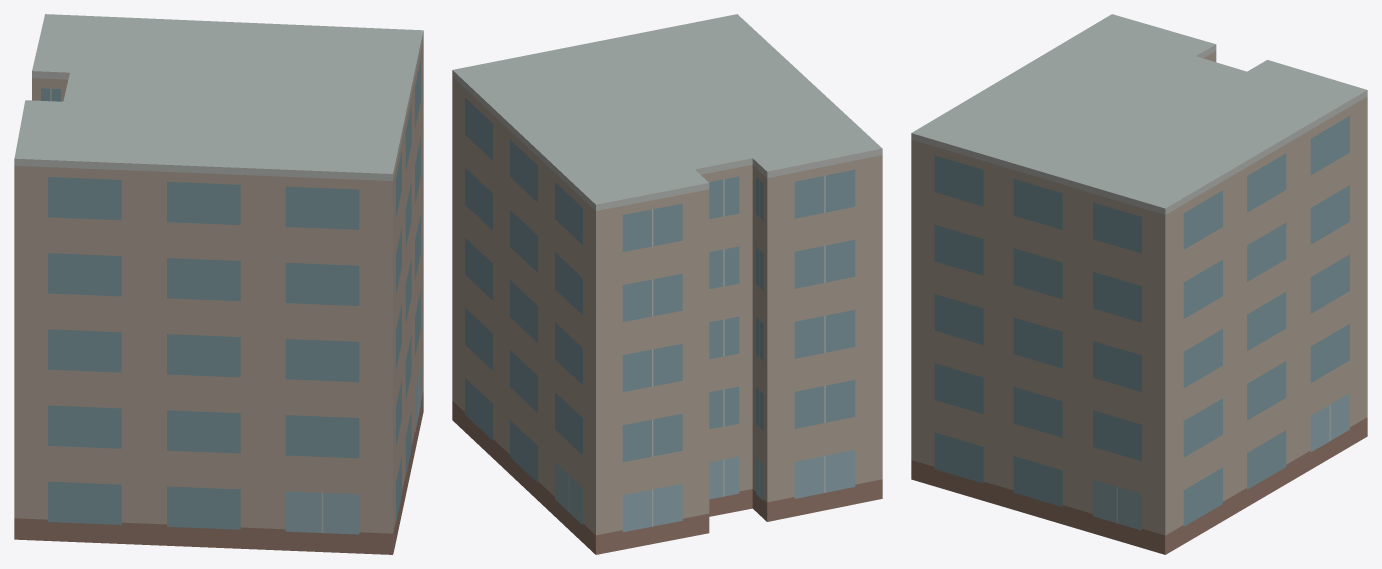
The model's file is survey-upis-32871232.glb.
3 views of the same model, side by side, from view 1: azimuth 30°, elevation 25°; view 2: azimuth 150°, elevation 25°; view 3: azimuth 270°, elevation 25° (orthographic). The views are drawn at different scales.
Visible parts, largest first — view 1: survey-upis-32871232.tmp; view 2: survey-upis-32871232.tmp; view 3: survey-upis-32871232.tmp.
Part boxes in pixels (x1,y1,x2,y2): survey-upis-32871232.tmp: (14, 14, 423, 554); survey-upis-32871232.tmp: (452, 14, 882, 554); survey-upis-32871232.tmp: (911, 14, 1367, 554).
Size of the model in its own units: 15.91 by 13.2 by 15.77.
